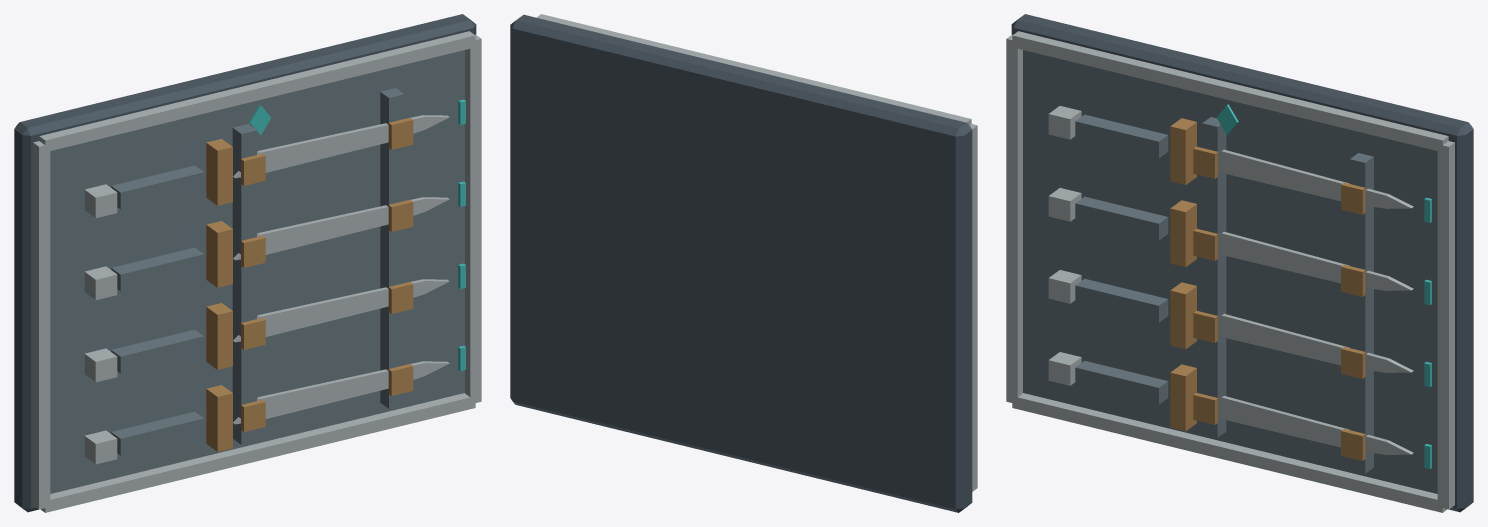
The model's file is 0-20261016-1900-ev022-r04-mockup-swordwallrack.fbx.
3 views of the same model, side by side, from view 1: azimuth 30°, elevation 25°; view 2: azimuth 150°, elevation 25°; view 3: azimuth 330°, elevation 25° (orthographic).
Parts seen in each view (by area): view 1: SW_Showroom_SwordWallRack; view 2: SW_Showroom_SwordWallRack; view 3: SW_Showroom_SwordWallRack.
Part boxes in pixels (x1,y1,x2,y2): SW_Showroom_SwordWallRack: (14, 14, 481, 512); SW_Showroom_SwordWallRack: (510, 14, 977, 512); SW_Showroom_SwordWallRack: (1006, 14, 1473, 512).
Bounding box in the file's own units: 220 × 178 × 26.2.
